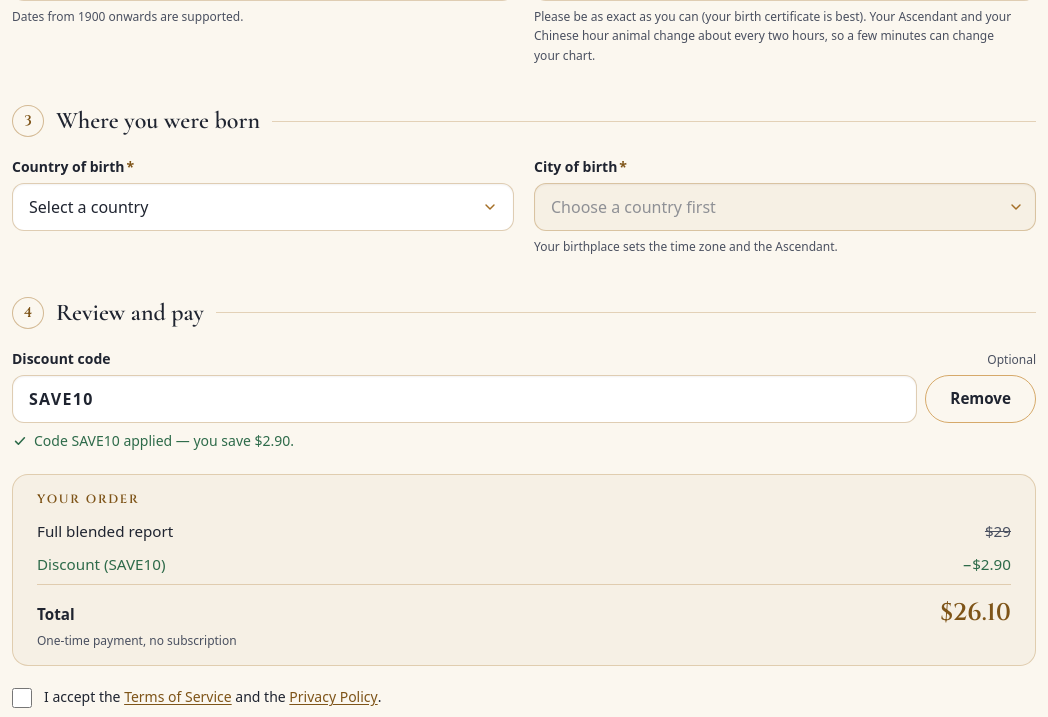
Test: OrderForm › prefills and applies the ?code= discount, then shows the reason when a code is refused
The width and height of the screenshot is (1048, 717).
(page scrolled)
Expected: the text "$26.10" is shown, [940,597,1011,629]
Click the button "Remove".
click(981, 399)  # box [925,375,1036,423]
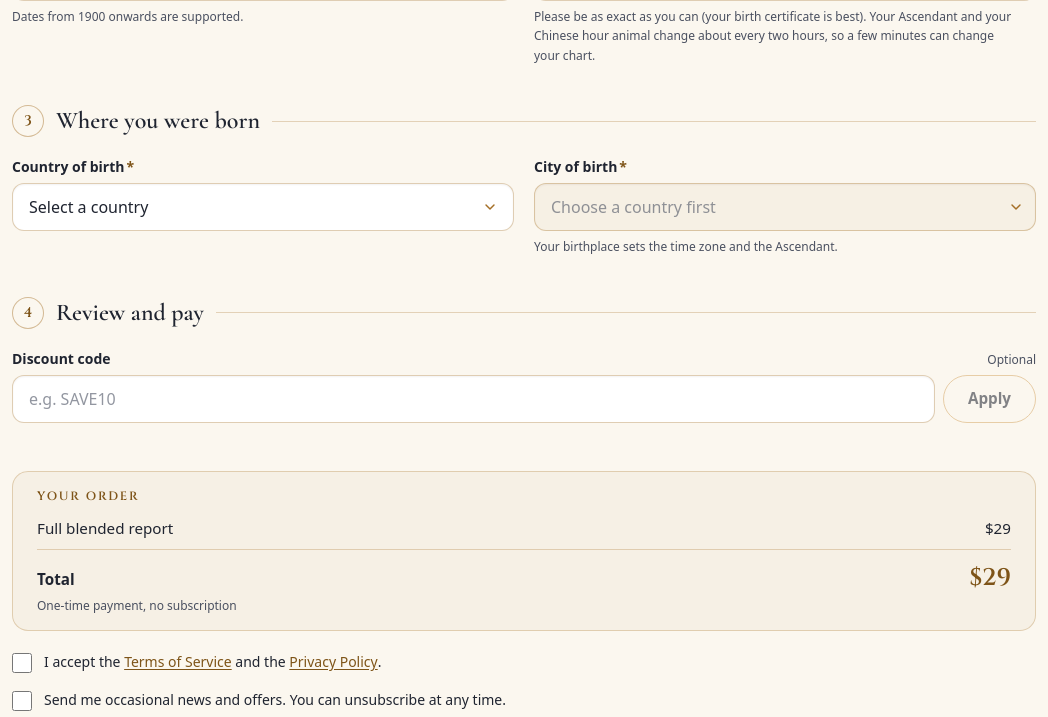
Type "used-up" into the field labelled "Discount code Optional".
click(474, 399); type("used-up")  # box [12,375,935,423]
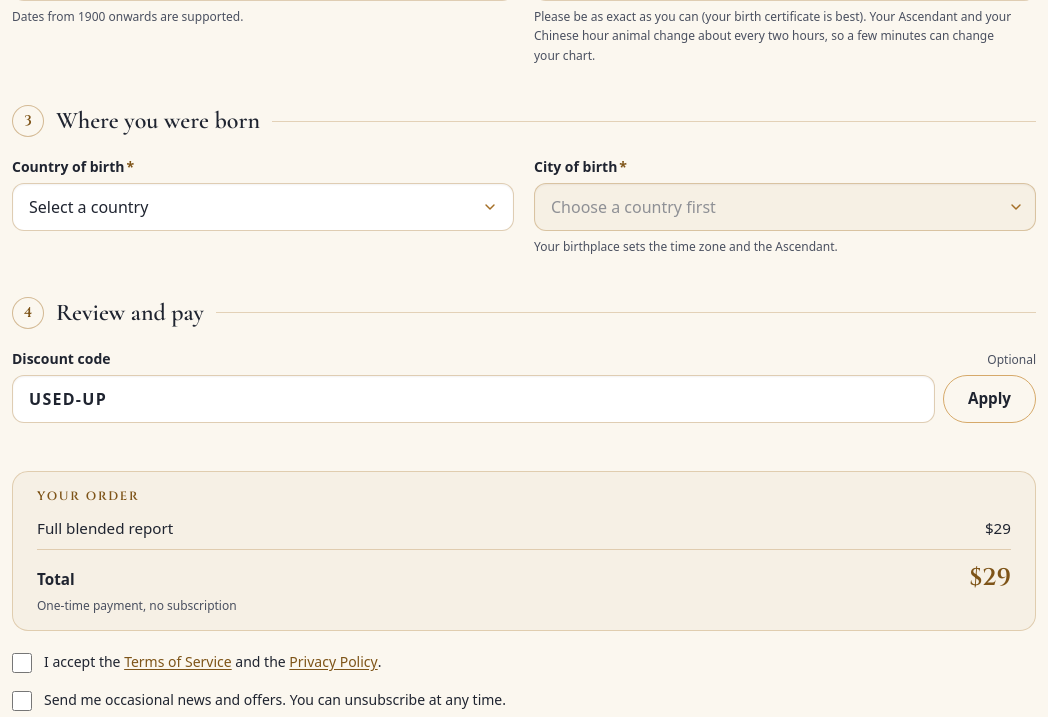
Press Enter in the field labelled "Discount code Optional", box [12,375,935,423]
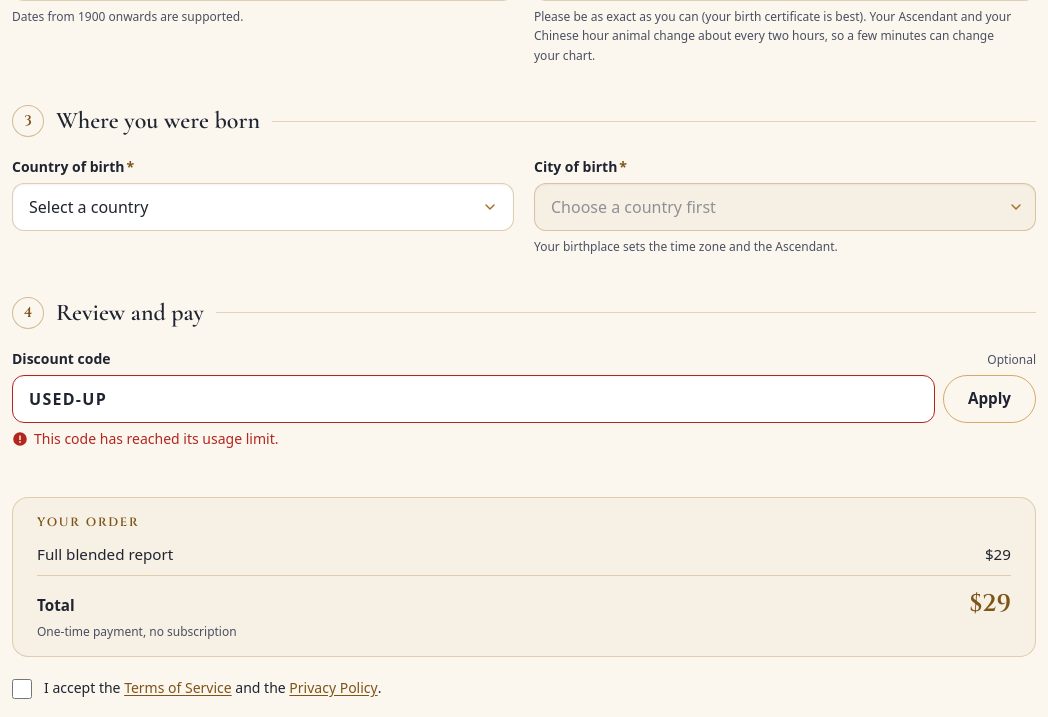
Expected: the text "$29" is shown 2 times, [985,542,1011,567]; [970,588,1011,620]
Expected: the text "This code has reached its usage limit." is shown, [34,429,278,449]
